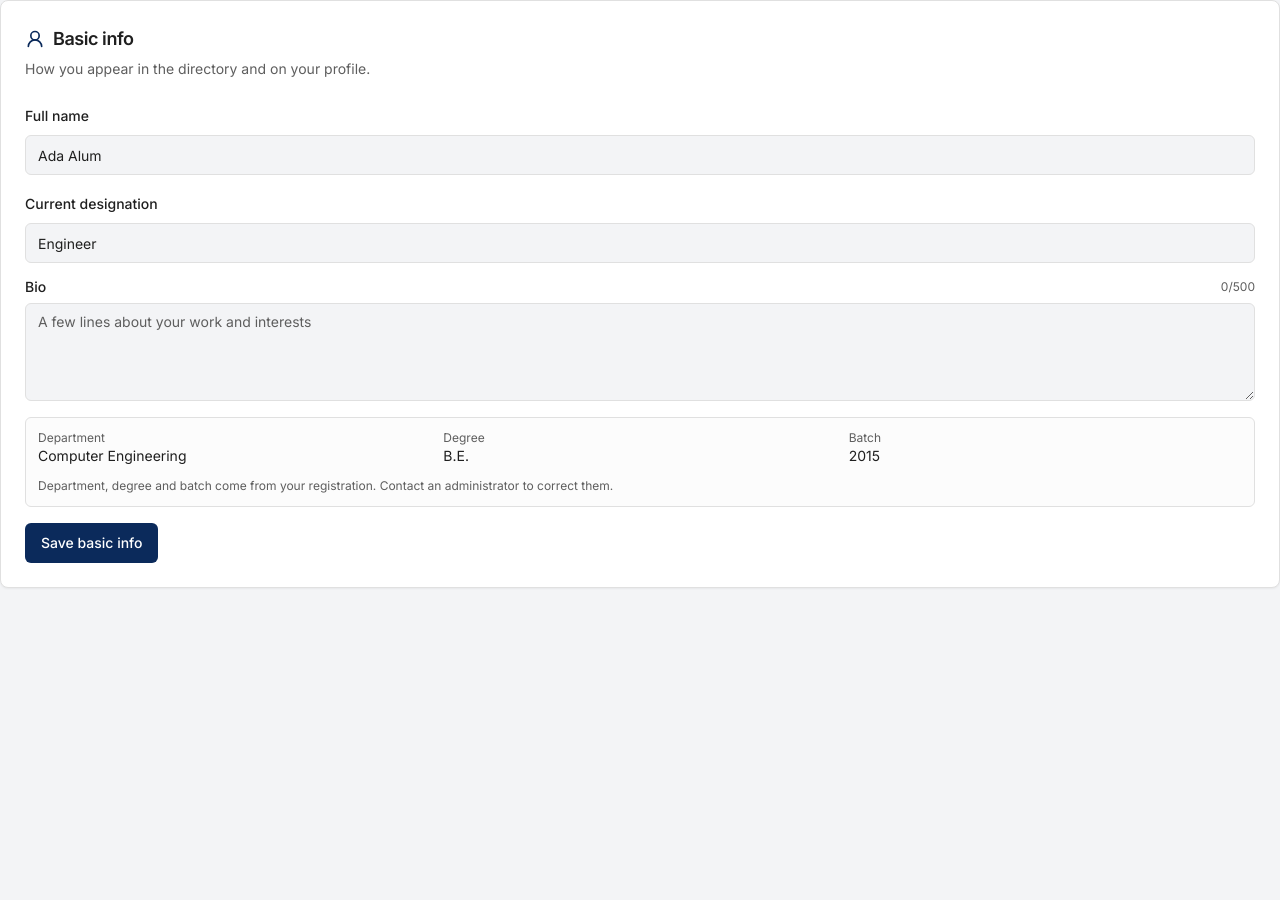
it: <BasicInfoSection> › surfaces server errors in a toast and inline
Click the button "Save basic info".
click(92, 543)  # box left=25, top=523, right=158, bottom=563
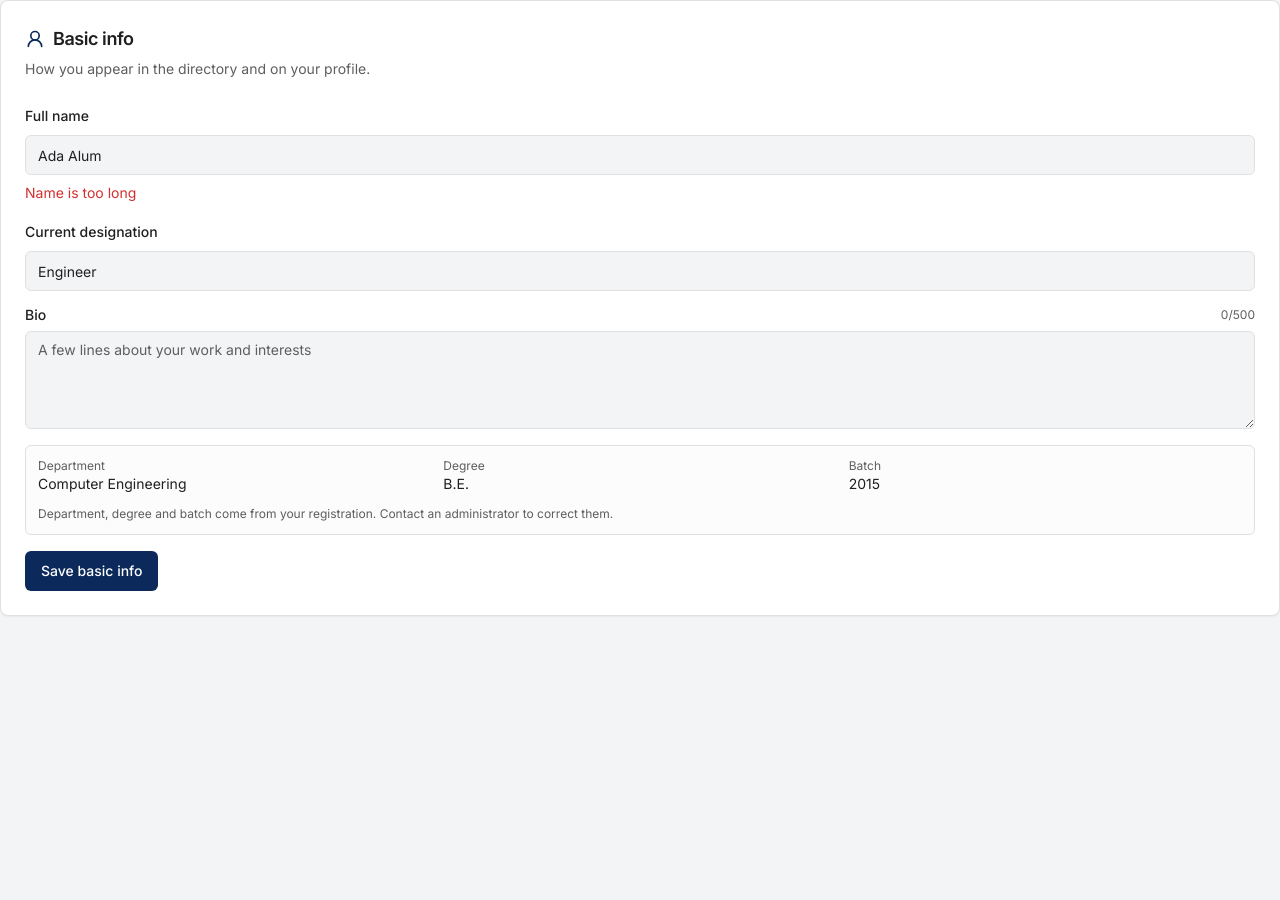
Result: the text "Name is too long" is shown at left=25, top=184, right=136, bottom=201
